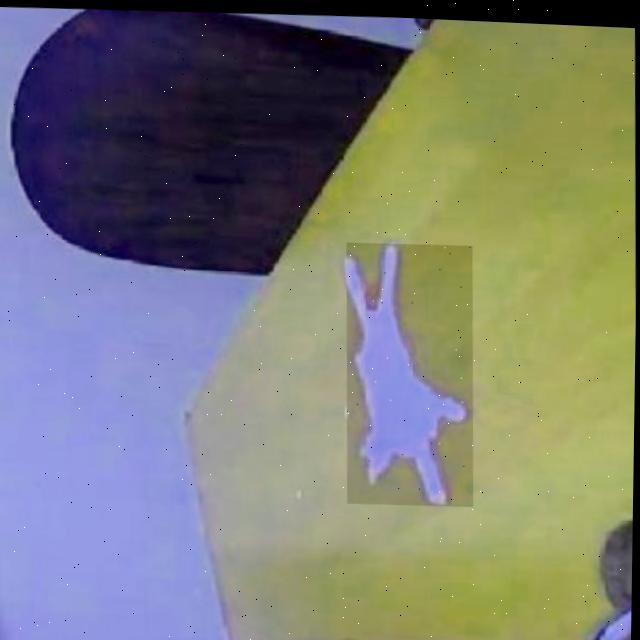spillage: (347, 239, 473, 500)
